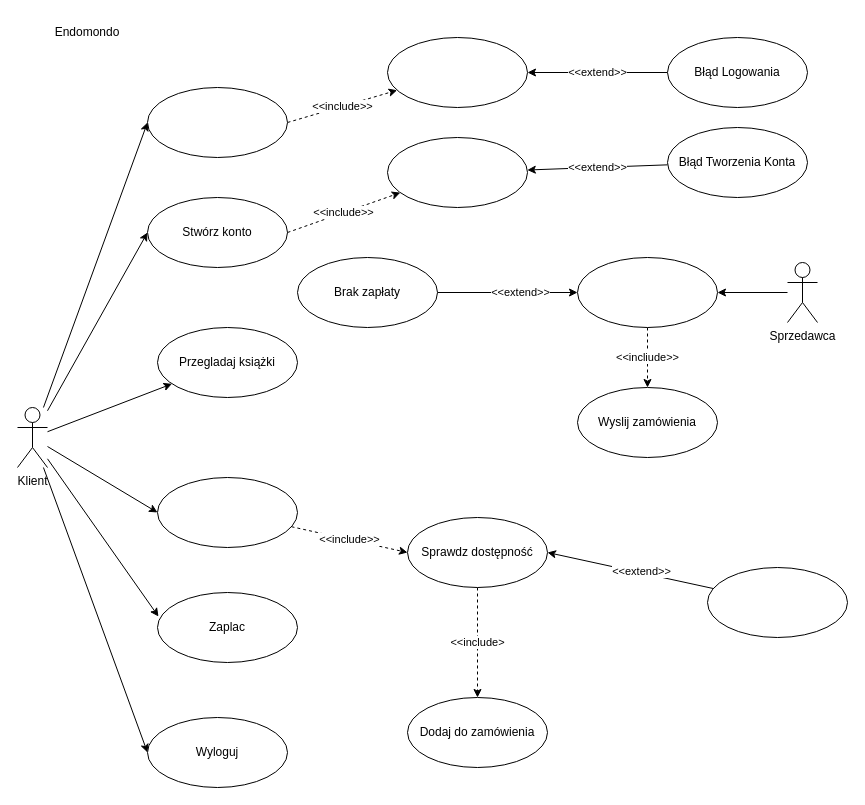
Some shapes in this 865 by 805 pixel diagram are drawn without their labels. The shapes that lost their labels are listed below. From the top down, each one's centre as x and y in pixels, then its label:
point (457, 72): Weryfikacja Logowania
point (217, 122): Zaloguj
point (457, 172): Weryfikacja Konta
point (647, 292): Sprzedaj książkę
point (227, 512): Kup książkę
point (777, 602): Brak książki
